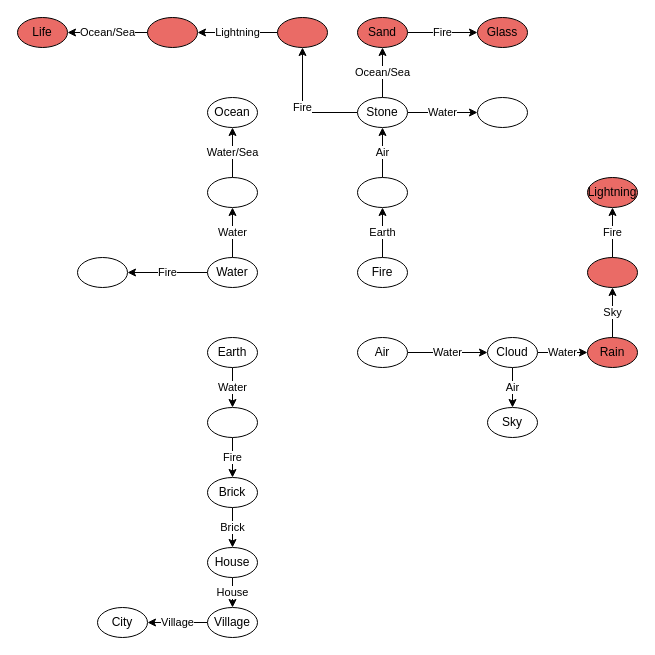
Image size: 655x655. Some labels were removed from this diagram. Here are the shapes that lost their labels. From the top down, the centre of each, then its label:
At pixel 172 32: "Electricity".
At pixel 302 32: "Metal".
At pixel 502 112: "Fountain".
At pixel 232 192: "Sea".
At pixel 382 192: "Volcano".
At pixel 102 272: "Steam".
At pixel 612 272: "Storm".
At pixel 232 422: "Mud".
